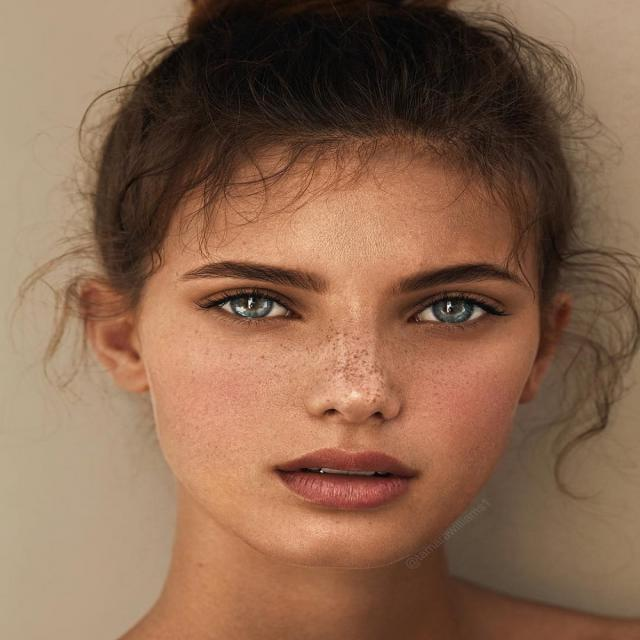earlobe: (76, 277, 152, 397), (522, 290, 575, 404)
